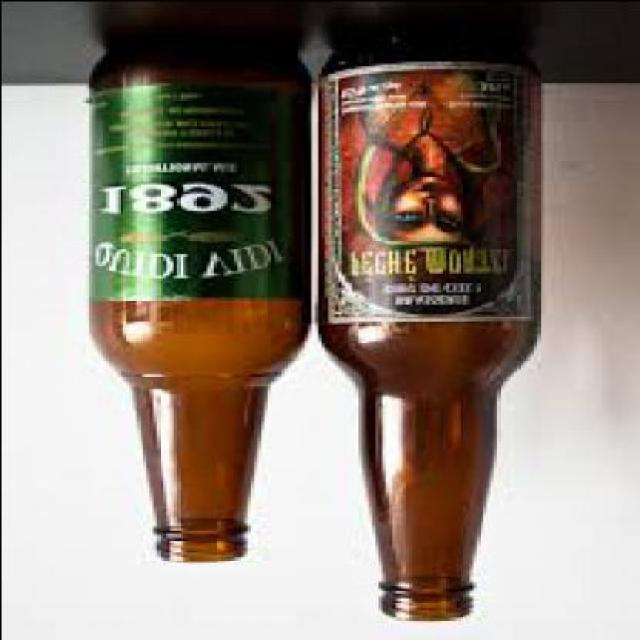GLASS: (310, 43, 539, 619), (84, 46, 307, 563)
